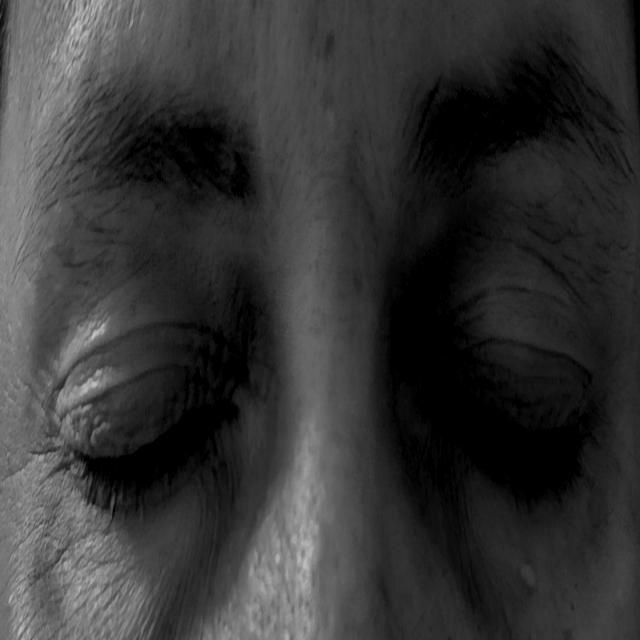real: (28, 147, 620, 572)
